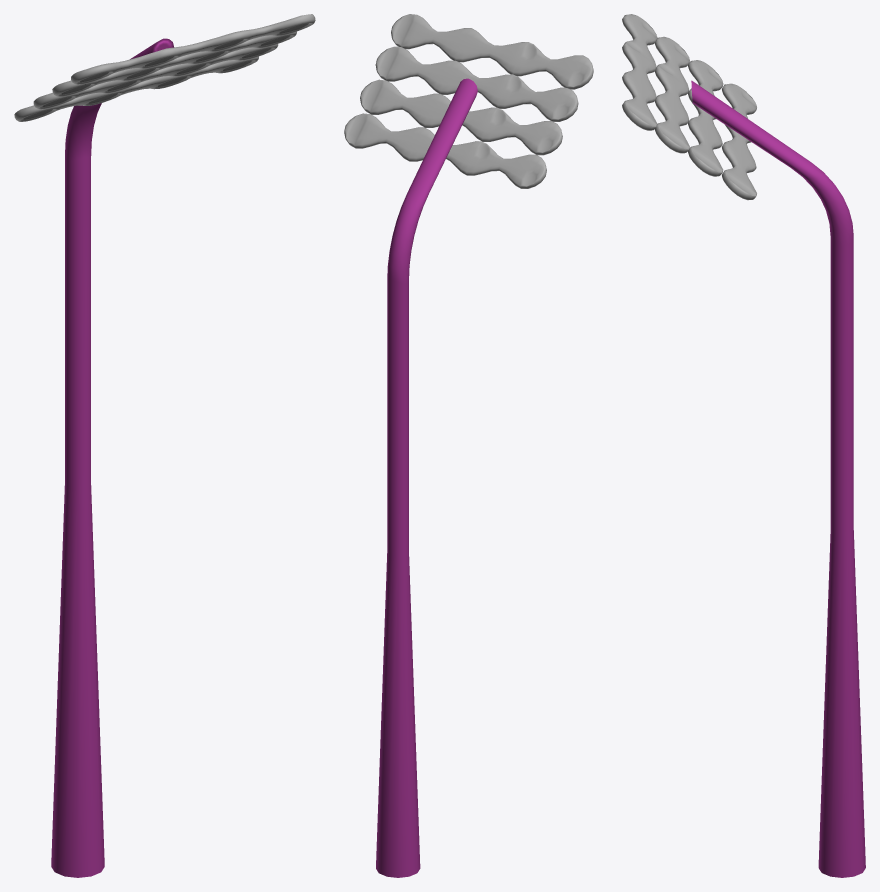
Rendered from vapour_light.fbx.
3 views of the same model, side by side, from view 1: azimuth 30°, elevation 25°; view 2: azimuth 150°, elevation 25°; view 3: azimuth 270°, elevation 25° (orthographic). The views are drawn at different scales.
Parts seen in each view (by area): view 1: light; view 2: light; view 3: light.
Part boxes in pixels (bbox=[...]): light: bbox=[14, 14, 315, 877]; light: bbox=[344, 14, 593, 877]; light: bbox=[622, 14, 865, 877].
Bounding box in the file's own units: 26.12 × 94.93 × 25.92.
